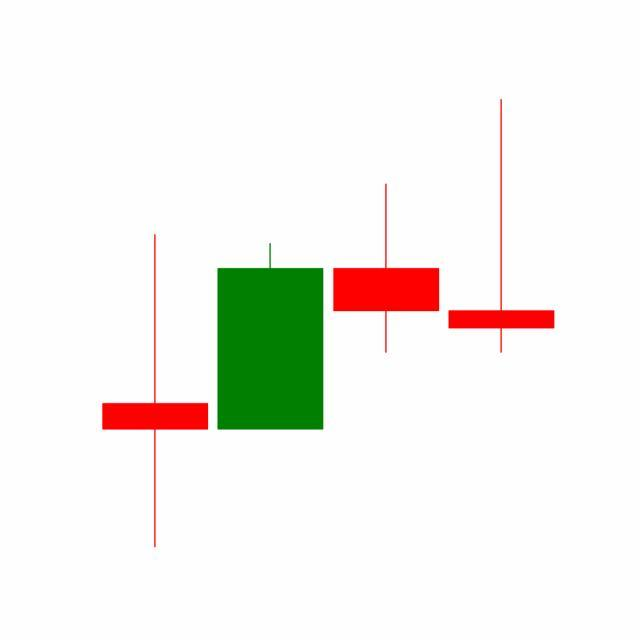Spinning Top: (444, 97, 560, 357)
